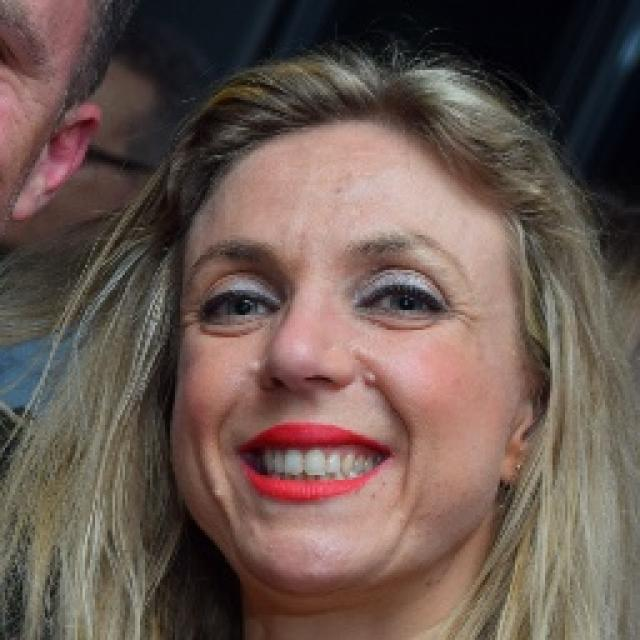earlobe: (8, 102, 100, 219)
